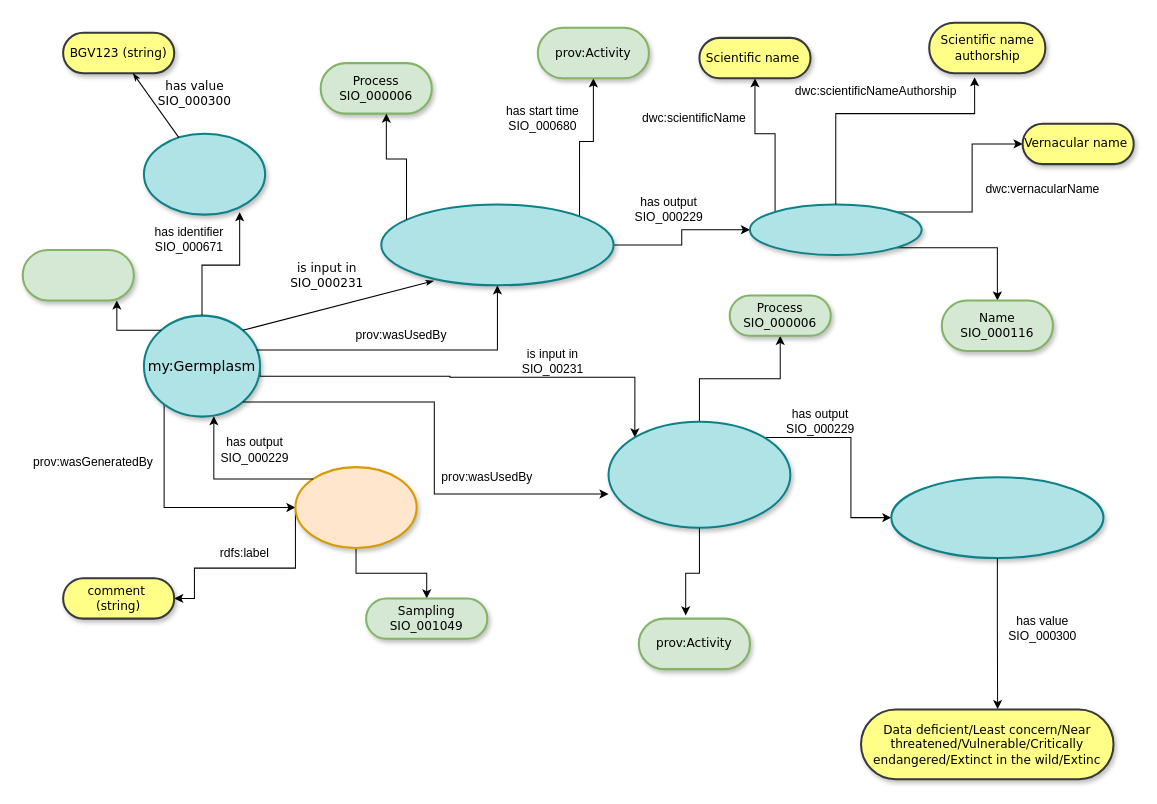
Some shapes in this 1157 by 804 pixel diagram are drawn without their labels. Here are the shapes that lost their labels. From the top down, the centre of each, then its label:
(205,175): my:Identifier
(498,246): my:PlantIdentificationProcess
(836,231): my:PlantIdentification
(78,276): Germplasm EFO_0007059
(700,475): my:Endangerment AssessmentProcess
(356,509): this:$(bgvid)# Collection
(998,519): my:EndargementCategory
